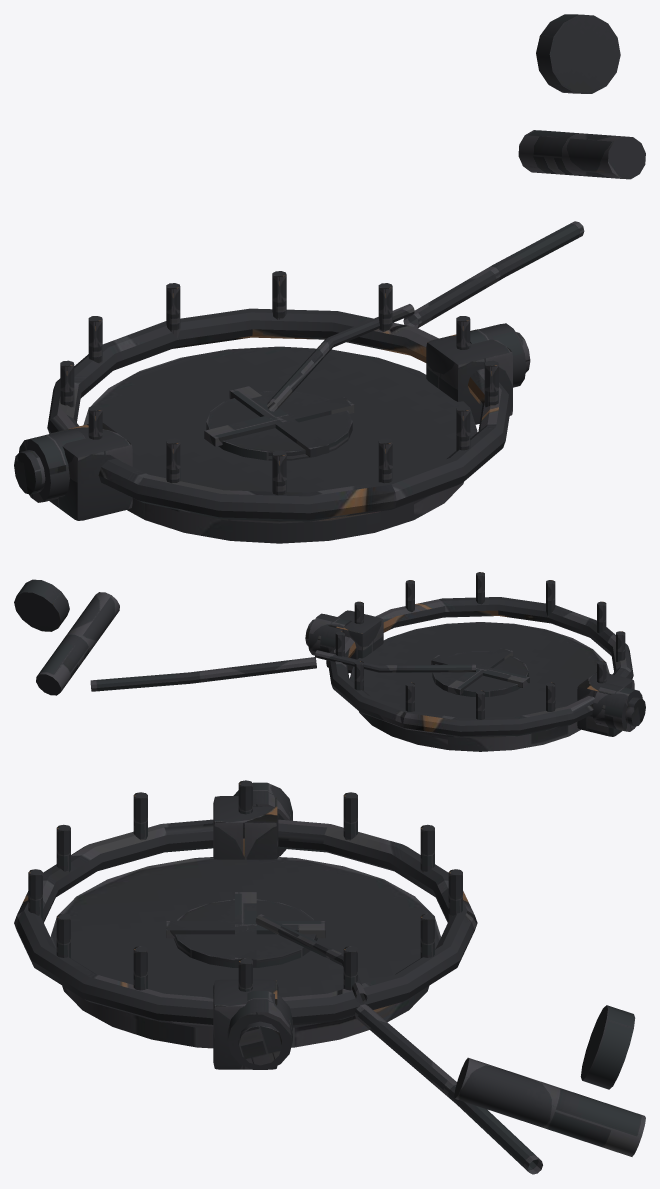
The model's file is DD_trap_bear.glb.
3 views of the same model, one above another, from view 1: azimuth 30°, elevation 25°; view 2: azimuth 150°, elevation 25°; view 3: azimuth 270°, elevation 25° (orthographic). The views are drawn at different scales.
Parts seen in each view (by area): view 1: DD_trap_bear; view 2: DD_trap_bear; view 3: DD_trap_bear.
Boxes of the visible parts, x1=… form: DD_trap_bear: x1=14, y1=14, x2=645, y2=543; DD_trap_bear: x1=14, y1=572, x2=645, y2=751; DD_trap_bear: x1=14, y1=780, x2=645, y2=1174.
Size of the model in its own units: 1.2 by 0.296 by 0.8724.
Materials: 1 (1 with a texture image).
